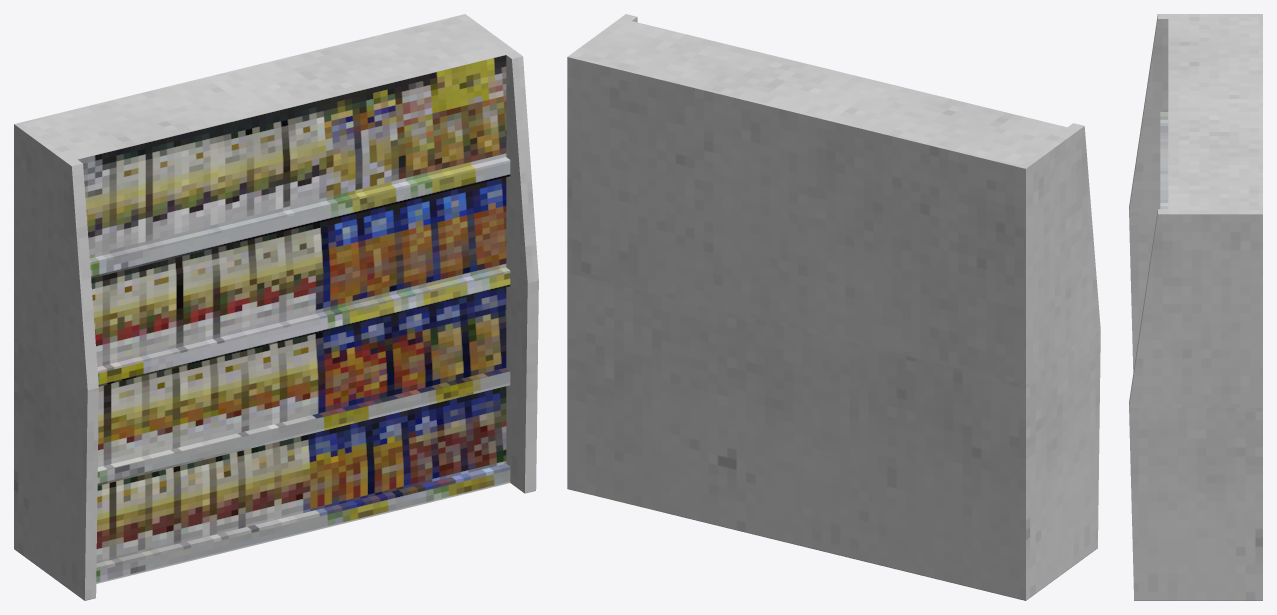
File: Estante_jugos_001.fbx
The picture shows the model from 3 angles, left to right: view 1: azimuth 30°, elevation 25°; view 2: azimuth 150°, elevation 25°; view 3: azimuth 270°, elevation 25°; orthographic projection. The views are drawn at different scales.
Parts seen in each view (by area): view 1: Estante_jugos_001; view 2: Estante_jugos_001; view 3: Estante_jugos_001.
Part boxes in pixels (x1,y1,x2,y2): Estante_jugos_001: [14, 14, 538, 600]; Estante_jugos_001: [567, 14, 1100, 600]; Estante_jugos_001: [1129, 14, 1262, 600].
Size of the model in its own units: 200 by 180 by 56.52.
1 material, 1 textured.
